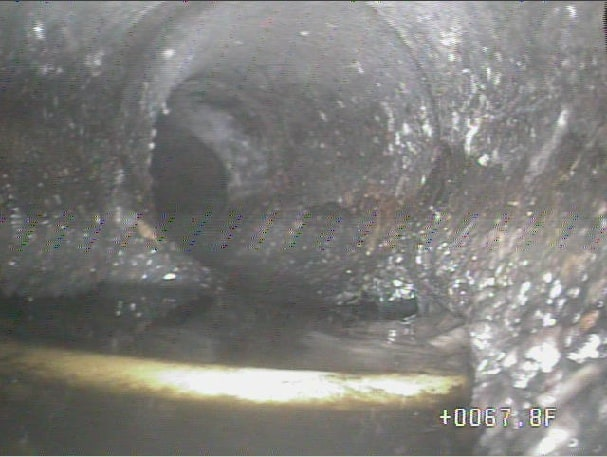cb: (4, 321, 486, 439)
